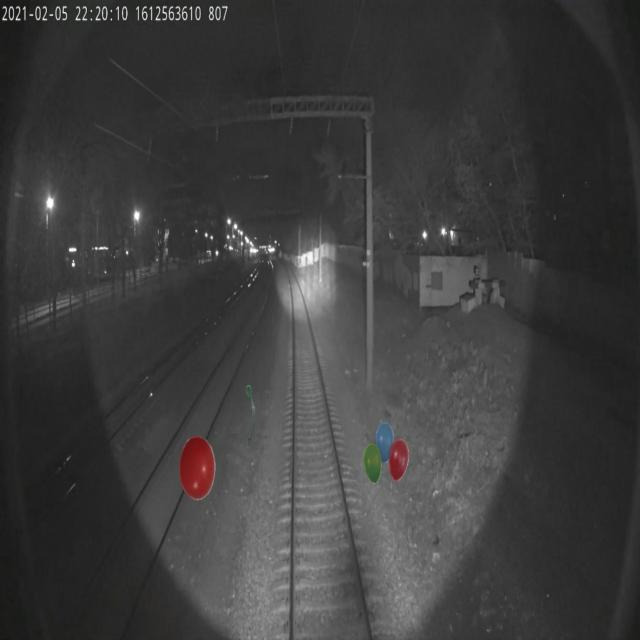balloon: (364, 420, 409, 484), (179, 436, 215, 500)
floating object: (246, 384, 255, 448)
